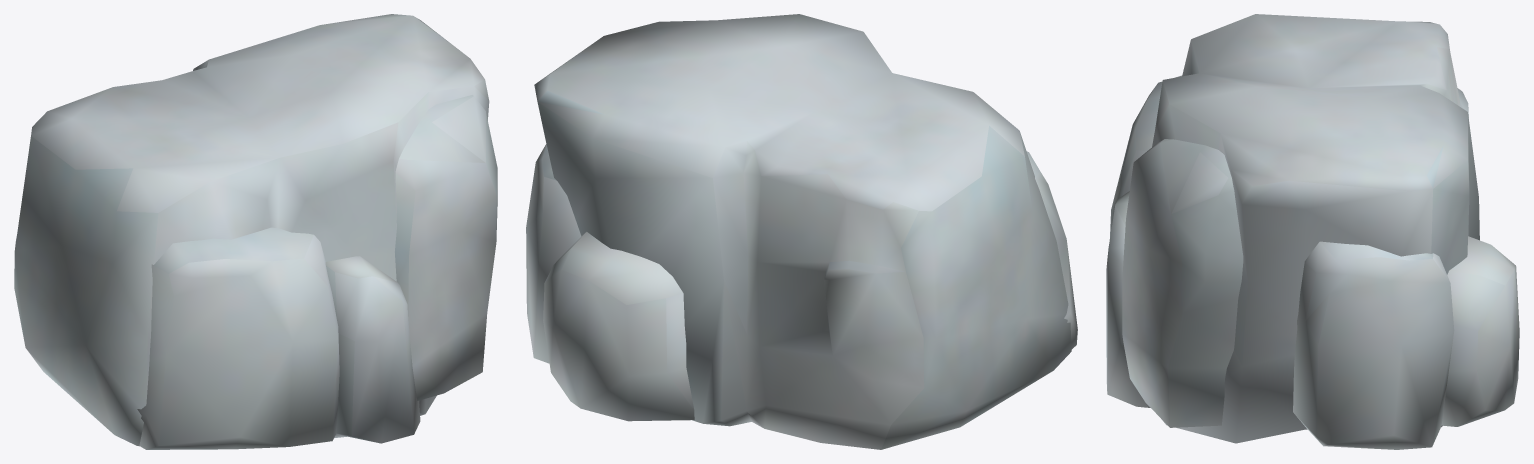
Rendered from P_RockSpire_Shelf01.obj.
3 views of the same model, side by side, from view 1: azimuth 30°, elevation 25°; view 2: azimuth 150°, elevation 25°; view 3: azimuth 270°, elevation 25° (orthographic). The views are drawn at different scales.
Size of the model in its own units: 34.02 by 23.23 by 27.79.
